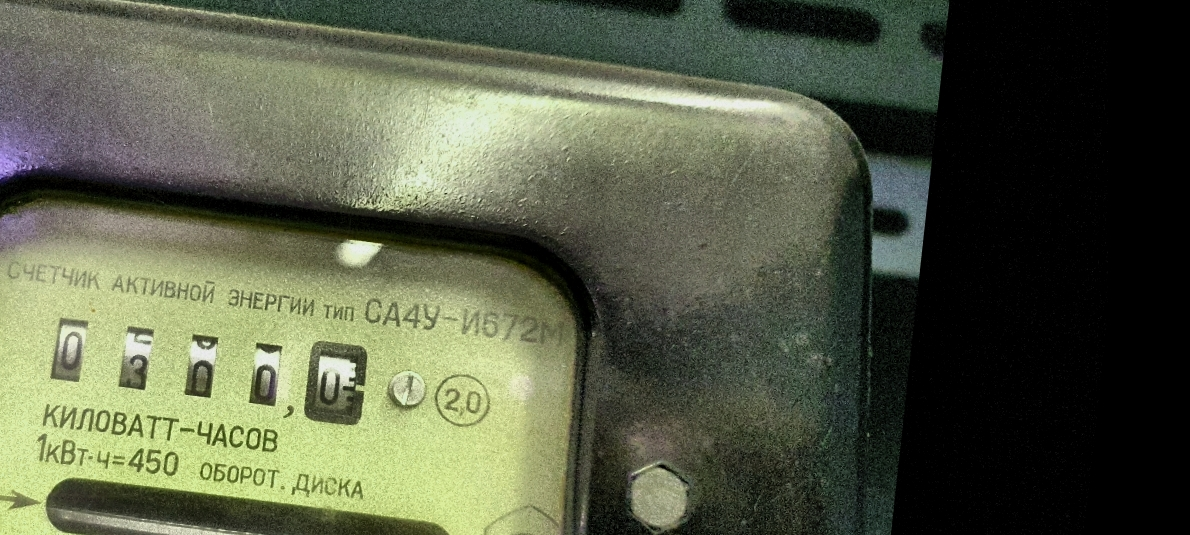0: (57, 325, 85, 374), (250, 360, 279, 406), (314, 363, 343, 408), (186, 355, 214, 399)
3: (122, 350, 149, 391)
screen: (26, 292, 390, 444)
